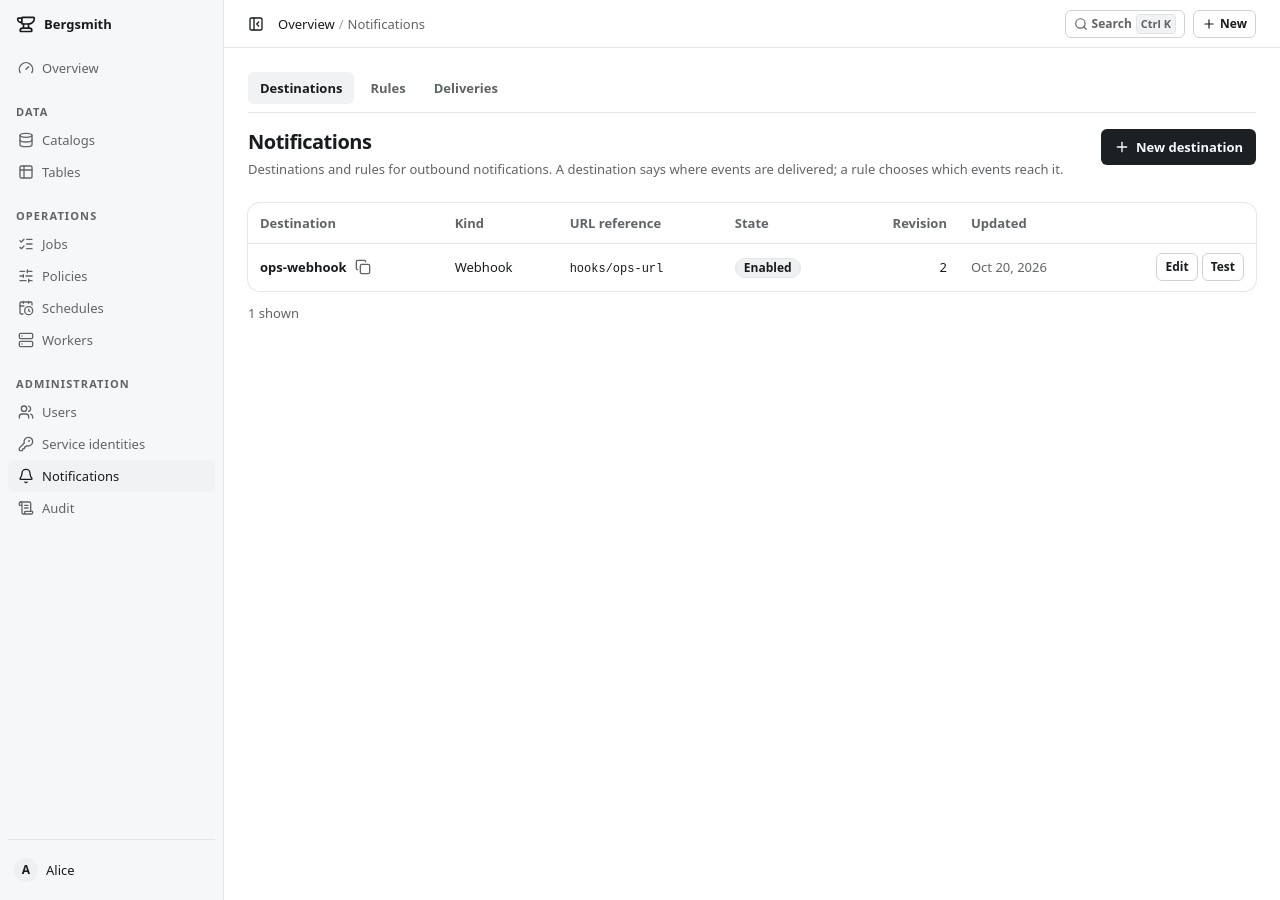
notification destinations › keeps a stale edit open and shows the revision conflict
Click the button with aria-label "Edit ops-webhook" at (1177, 267), box [1156,253,1198,281]
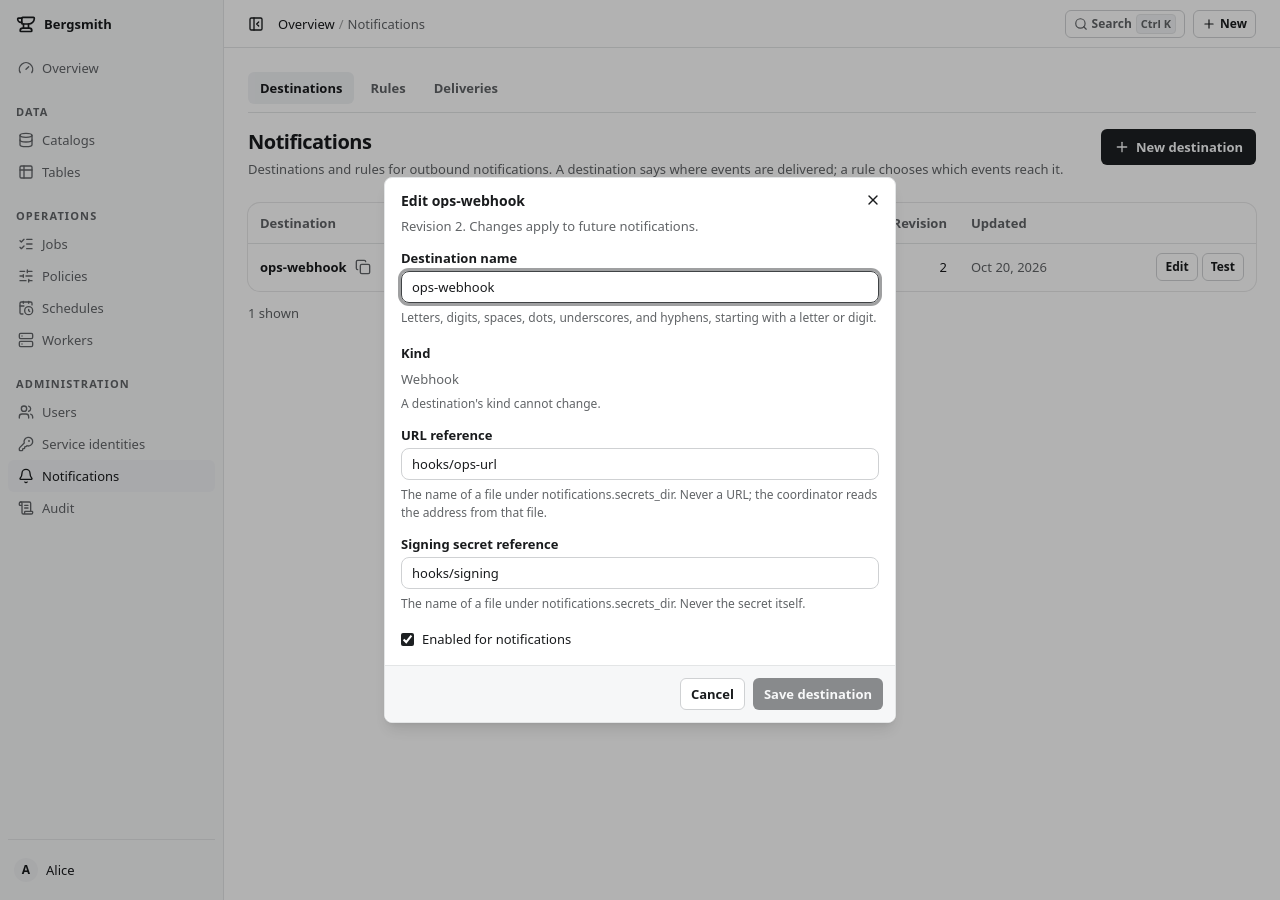
Replace the text in the field labelled "Destination name" with "ops-webhook-2" at (640, 287), box [401,271,879,303]
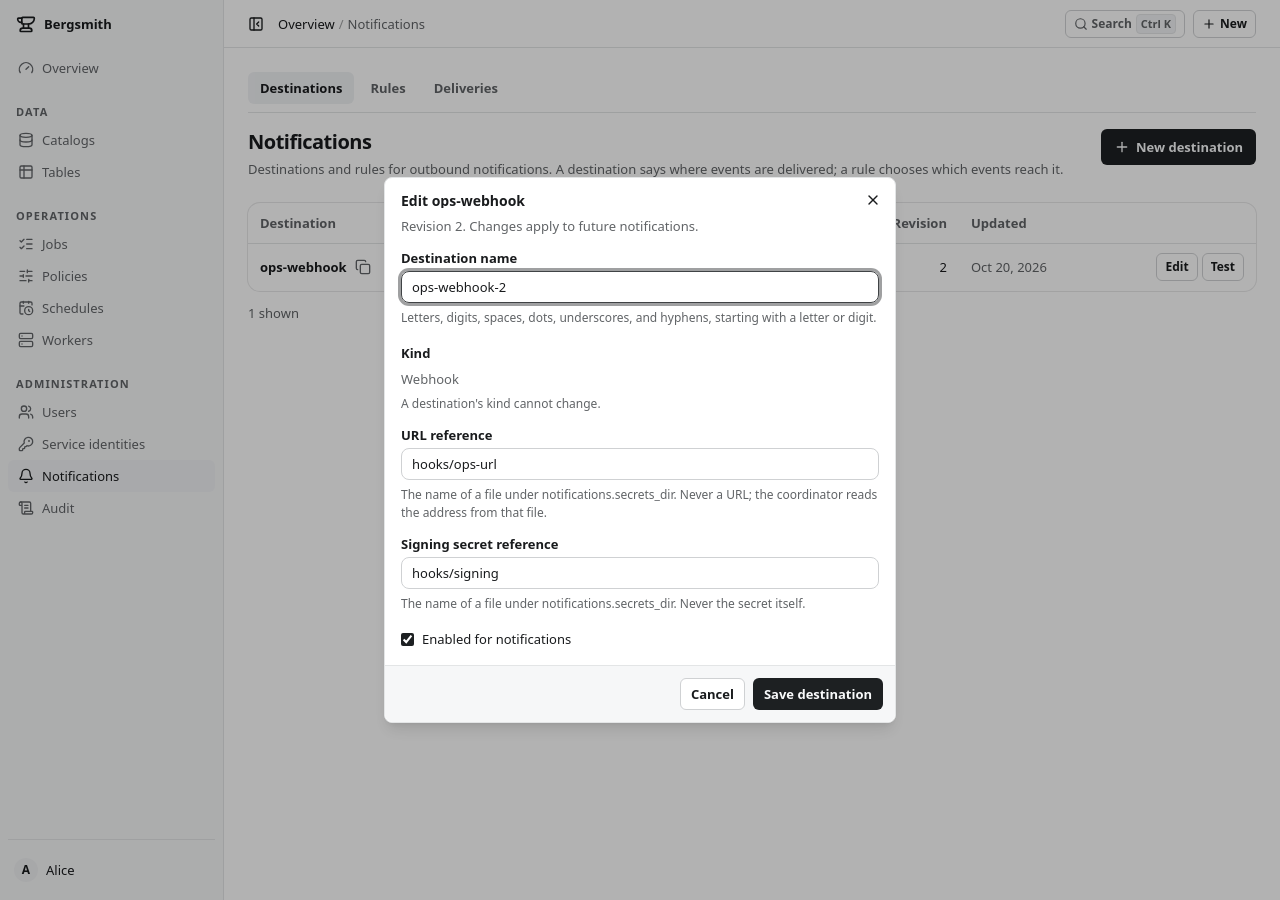
Click the button "Save destination" at (818, 694), box [753,678,883,710]
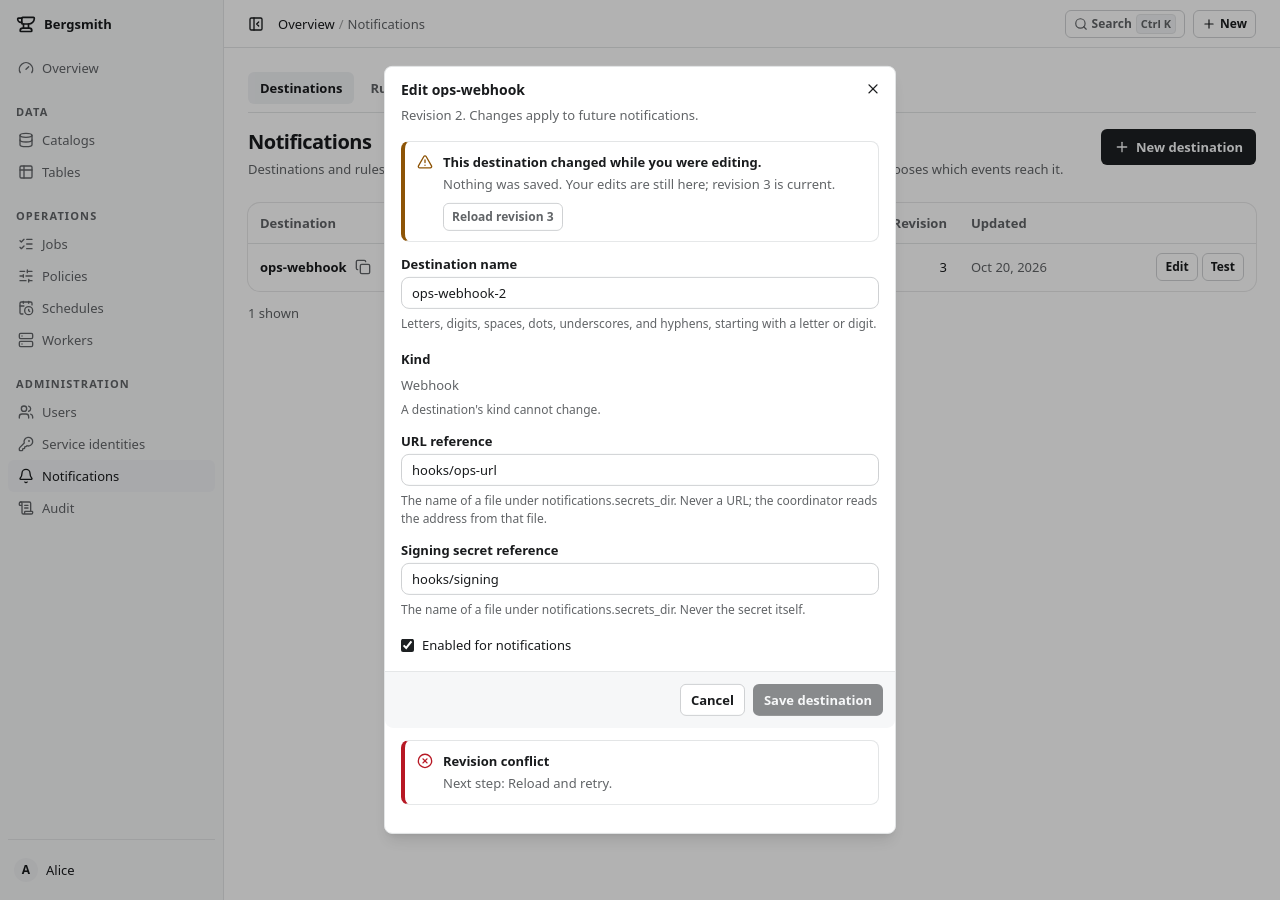
expect the heading "Edit ops-webhook" is shown: met, box [401,80,525,99]
expect the text "Revision conflict" is shown: met, box [443,752,549,770]
expect the button "Reload revision 3" is shown: met, box [443,203,562,231]
